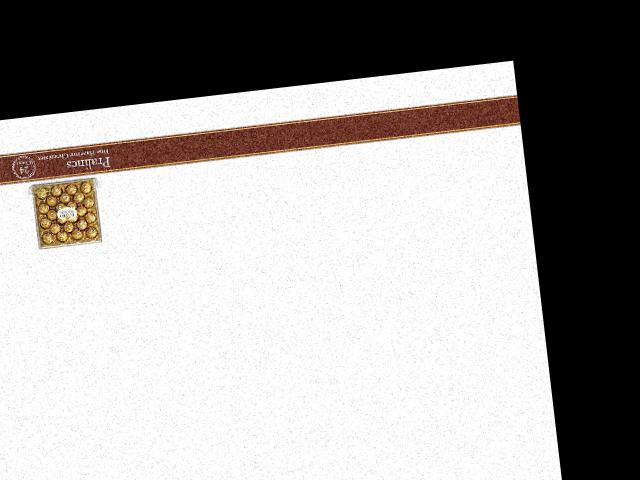chocolate: (26, 174, 105, 254)
